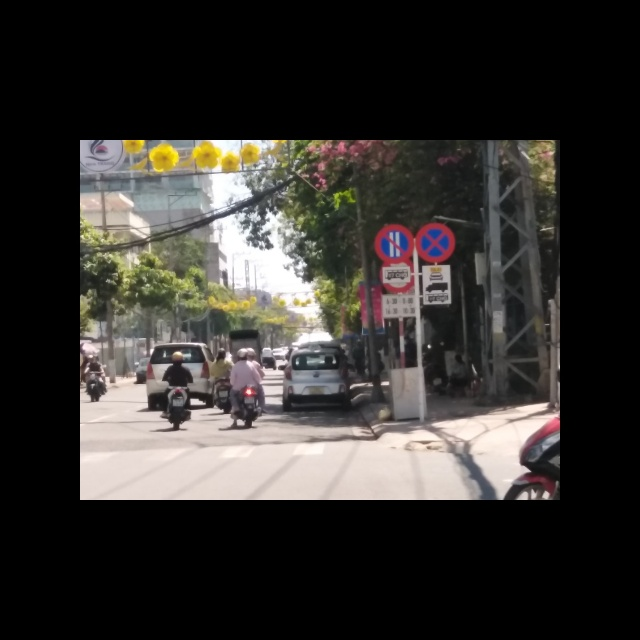Cấm dừng xe và đỗ xe: (415, 223, 455, 263)
Cấm đỗ xe ngày chẵn: (373, 223, 415, 264)
